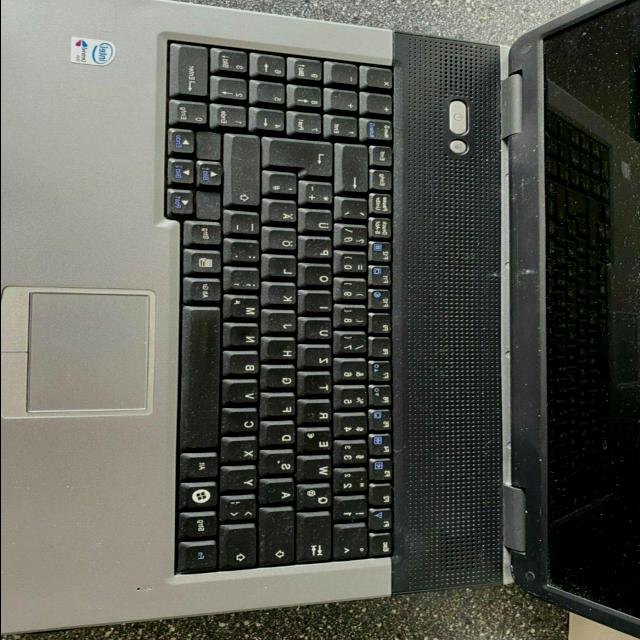0: (338, 255, 370, 277)
1: (334, 499, 370, 524)
2: (335, 471, 371, 496)
3: (335, 443, 371, 468)
4: (338, 417, 371, 439)
5: (337, 390, 371, 412)
6: (340, 362, 370, 384)
7: (337, 335, 371, 357)
8: (337, 308, 371, 330)
9: (336, 281, 370, 303)
a: (260, 483, 298, 507)
accent: (341, 200, 371, 222)
ae: (268, 203, 300, 225)
alt-left: (181, 456, 221, 482)
altgr-right: (185, 281, 224, 305)
b: (228, 355, 262, 379)
c: (224, 412, 262, 436)
caret: (335, 527, 371, 562)
comma: (228, 270, 262, 293)
d: (264, 425, 298, 449)
del: (339, 146, 371, 196)
e: (300, 431, 336, 455)
enter: (266, 140, 336, 180)
f: (265, 397, 299, 419)
g: (265, 369, 299, 391)
h: (267, 341, 299, 363)
hash: (268, 175, 300, 198)
i: (306, 294, 335, 315)
j: (266, 314, 300, 336)
k: (267, 286, 299, 308)
keyboard: (154, 32, 406, 583)
l: (269, 258, 299, 280)
less: (221, 498, 261, 524)
m: (226, 298, 263, 322)
minus: (229, 215, 263, 238)
n: (230, 327, 263, 349)
o: (303, 268, 335, 290)
oe: (268, 231, 300, 253)
p: (305, 240, 335, 262)
plus: (304, 185, 336, 208)
point: (230, 242, 263, 266)
q: (298, 487, 335, 513)
r: (303, 403, 335, 427)
s: (261, 454, 298, 478)
shift-left: (220, 527, 260, 572)
shift-lock: (260, 509, 299, 568)
shift-right: (226, 136, 264, 209)
space: (181, 308, 225, 451)
ss: (339, 228, 371, 250)
strg-left: (180, 514, 220, 542)
strg-right: (188, 223, 225, 249)
t: (305, 376, 335, 398)
tab: (299, 517, 337, 565)
u: (305, 321, 335, 343)
ue: (303, 212, 336, 234)
v: (225, 384, 262, 407)
w: (300, 459, 336, 483)
x: (223, 440, 261, 464)
y: (223, 470, 261, 494)
z: (305, 348, 335, 370)
